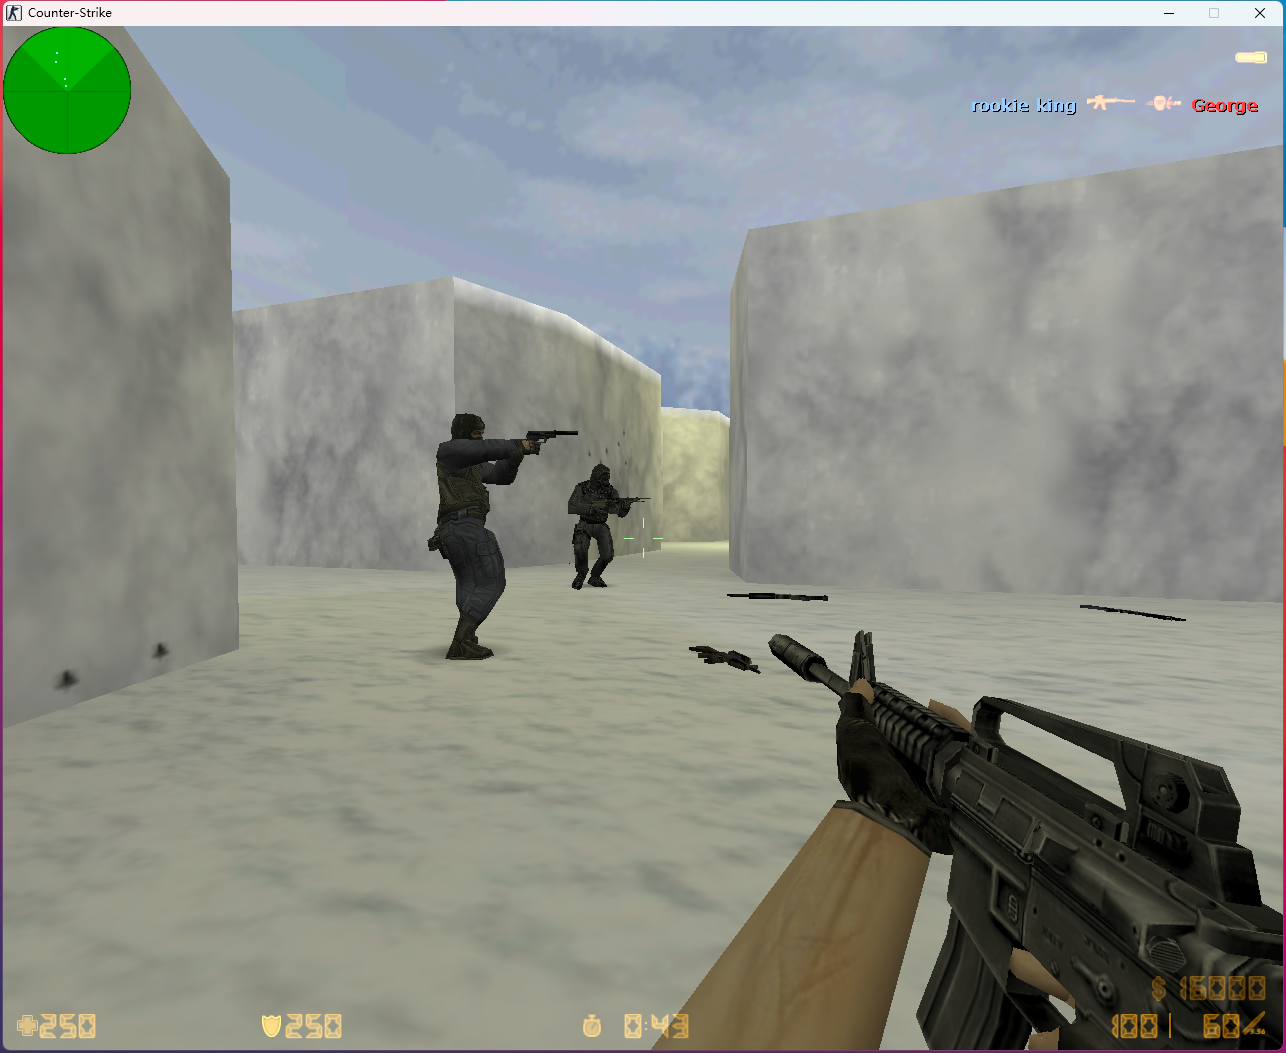C: (420, 412, 522, 667), (560, 461, 636, 597)
weapon: (683, 639, 766, 676), (1069, 602, 1193, 625), (722, 587, 829, 606)
